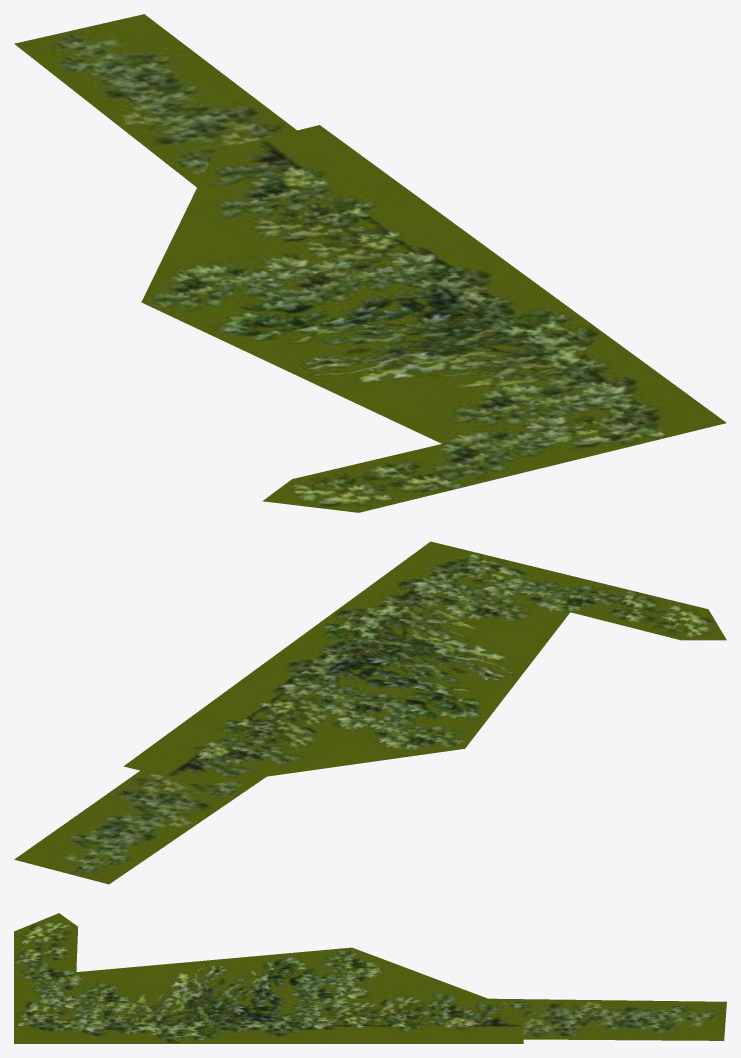
Rendered from prop_ivycornersingle02.glb.
3 renders of one model, top to bottom at view 1: azimuth 30°, elevation 25°; view 2: azimuth 150°, elevation 25°; view 3: azimuth 270°, elevation 25°, orthographic. The views are drawn at different scales.
Bounding box in the file's own units: 105 × 0.6055 × 241.
Materials: 1 (1 with a texture image).
